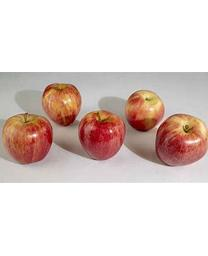apple: (155, 113, 207, 166), (3, 113, 53, 165), (77, 110, 127, 161), (42, 84, 82, 126), (125, 90, 164, 131)
